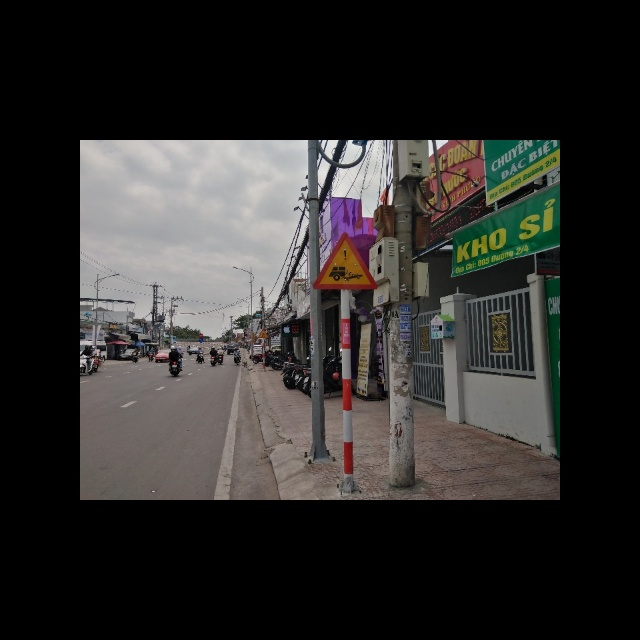Đoạn đường hay xảy ra tai nạn: (313, 231, 381, 291)
